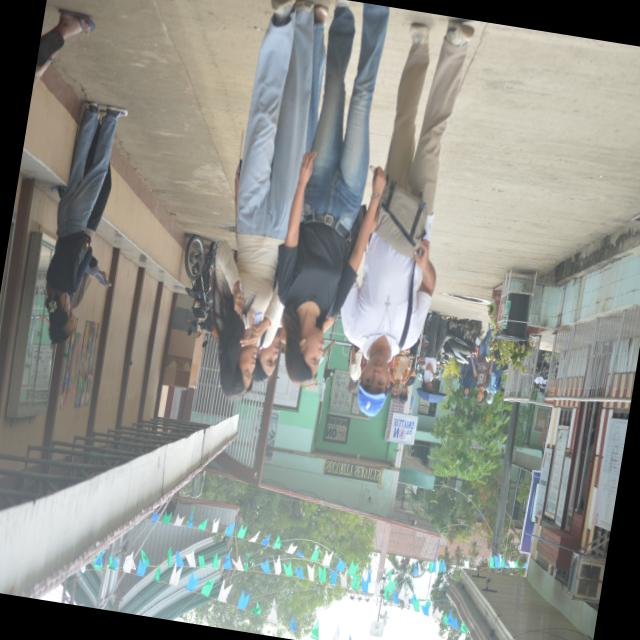person: (342, 21, 473, 415), (278, 0, 389, 383), (213, 0, 313, 397), (46, 101, 127, 327), (32, 9, 95, 91), (49, 271, 91, 343), (423, 311, 448, 391), (471, 325, 493, 404), (399, 337, 421, 402), (390, 350, 412, 400), (486, 361, 502, 403), (349, 344, 362, 393), (461, 362, 474, 397)
